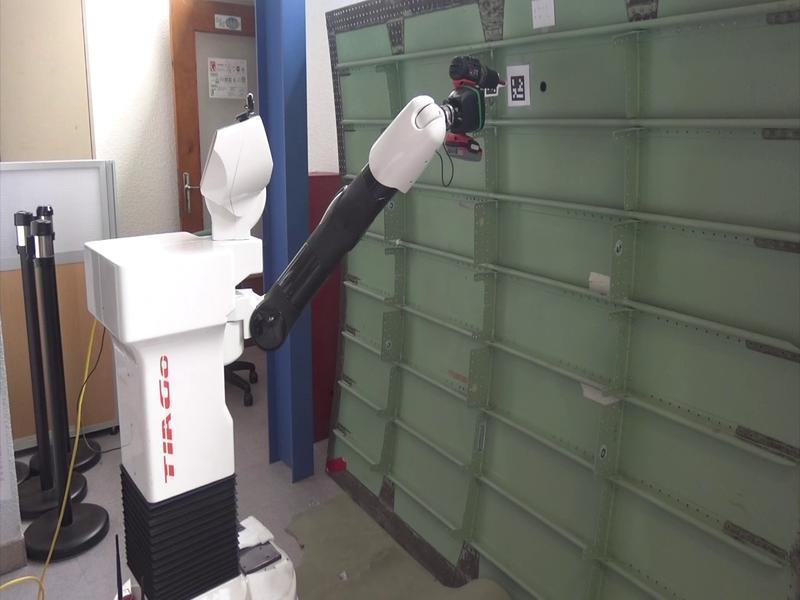hole: (537, 79, 550, 94)
